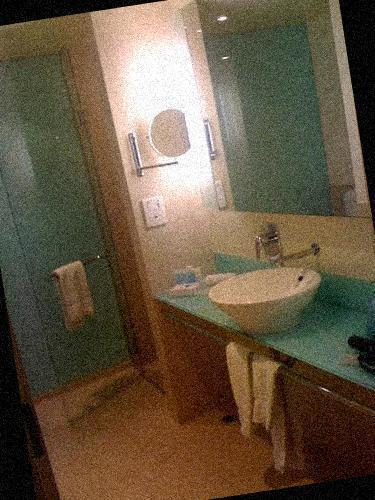Ducha: (0, 20, 248, 440)
Lavamanos: (205, 213, 340, 353)
